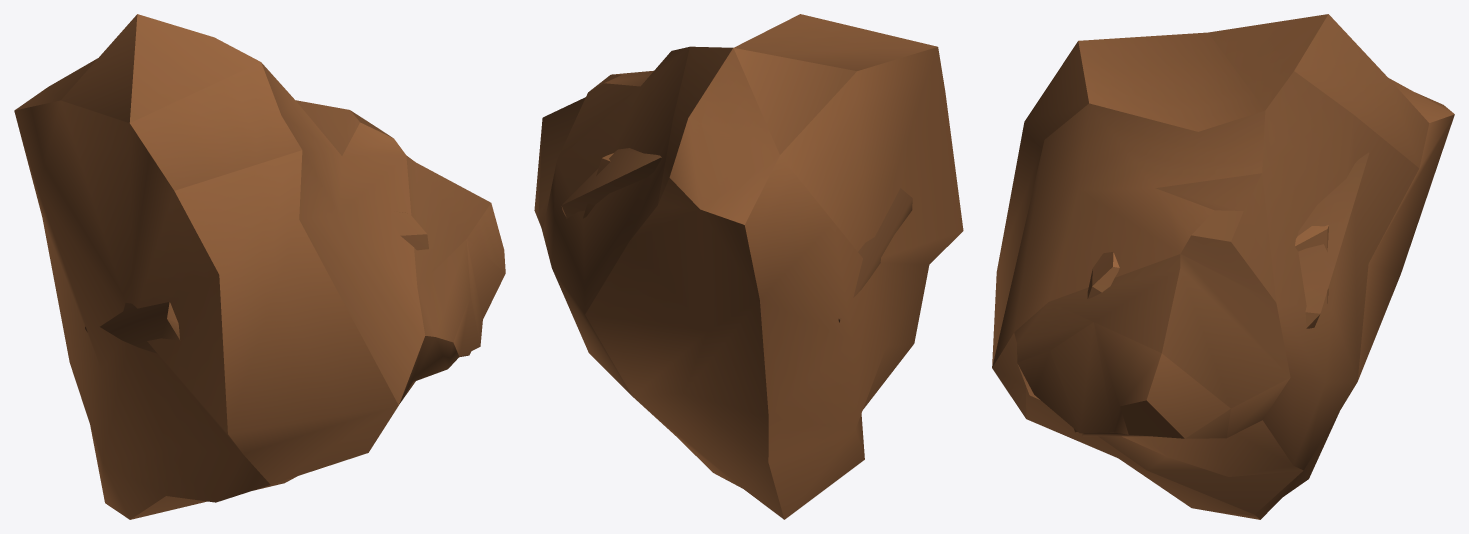
Rendered from EnemyBullet.fbx.
3 views of the same model, side by side, from view 1: azimuth 30°, elevation 25°; view 2: azimuth 150°, elevation 25°; view 3: azimuth 270°, elevation 25° (orthographic). The views are drawn at different scales.
Parts seen in each view (by area): view 1: Enemy_bulletA, Enemy_bulletB, Enemy_bulletC; view 2: Enemy_bulletA, Enemy_bulletB; view 3: Enemy_bulletA, Enemy_bulletB, Enemy_bulletC.
Part boxes in pixels (<box>): Enemy_bulletA: <box>14,14,505,519</box>; Enemy_bulletB: <box>85,302,471,357</box>; Enemy_bulletC: <box>391,211,428,402</box>; Enemy_bulletA: <box>534,14,963,519</box>; Enemy_bulletB: <box>561,148,912,322</box>; Enemy_bulletA: <box>992,14,1454,519</box>; Enemy_bulletB: <box>1082,152,1369,436</box>; Enemy_bulletC: <box>1073,225,1328,432</box>.
Size of the model in its own units: 9.64 by 11.48 by 9.91.
